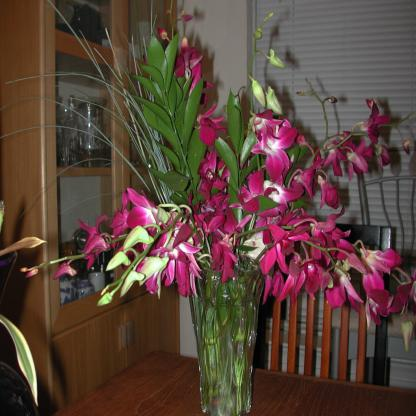vase: (188, 254, 264, 416)
